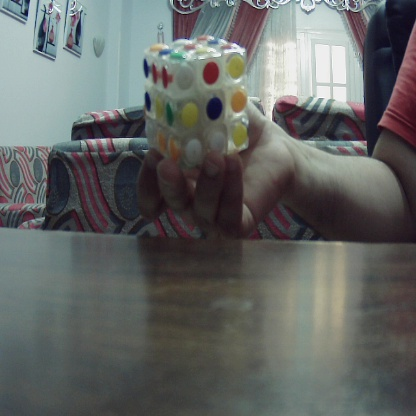Rubix Cube: (140, 34, 251, 161)
